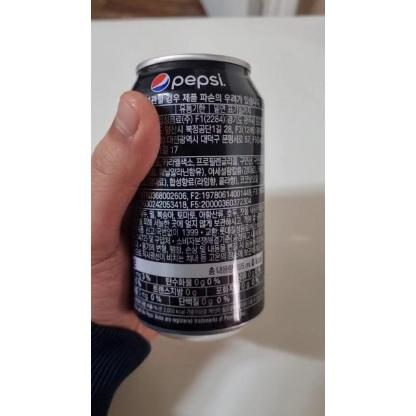Can: (124, 52, 266, 340)
